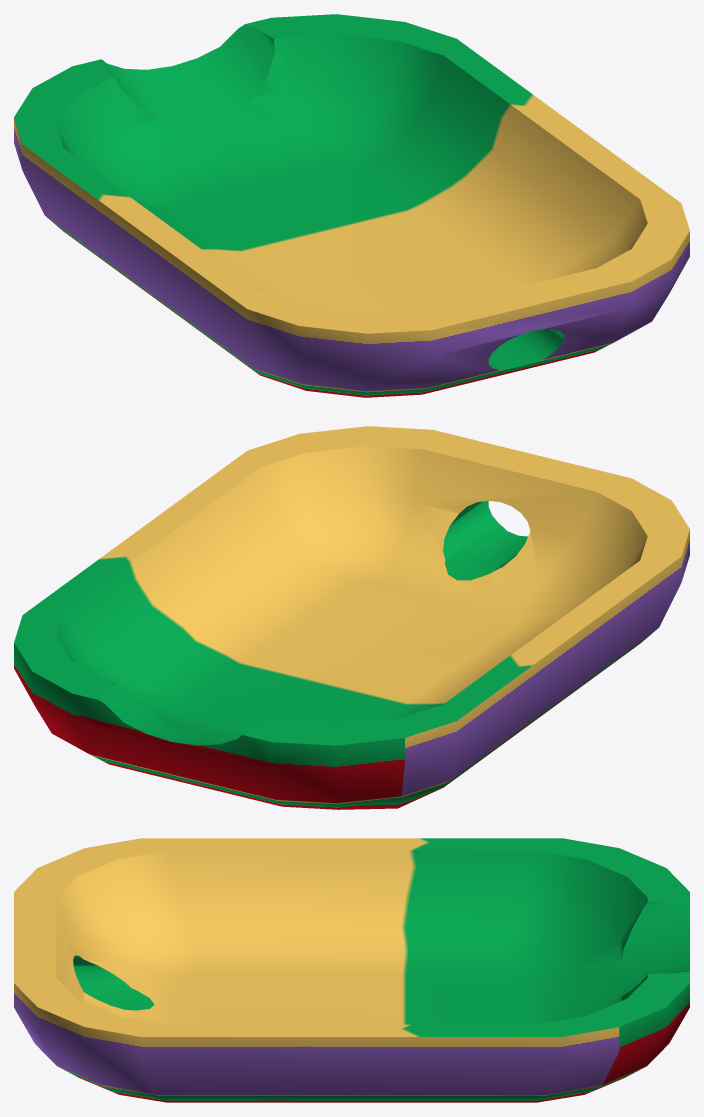
File: PV_Stadium.fbx
The picture shows the model from 3 angles, top to bottom: view 1: azimuth 30°, elevation 25°; view 2: azimuth 150°, elevation 25°; view 3: azimuth 270°, elevation 25°; orthographic projection. The views are drawn at different scales.
Parts seen in each view (by area): view 1: polySurface1; view 2: polySurface1; view 3: polySurface1.
Boxes of the visible parts, x1=… form: polySurface1: x1=14, y1=14, x2=689, y2=397; polySurface1: x1=14, y1=426, x2=689, y2=809; polySurface1: x1=14, y1=838, x2=689, y2=1102.
Size of the model in its own units: 19.64 by 4.22 by 28.22.
